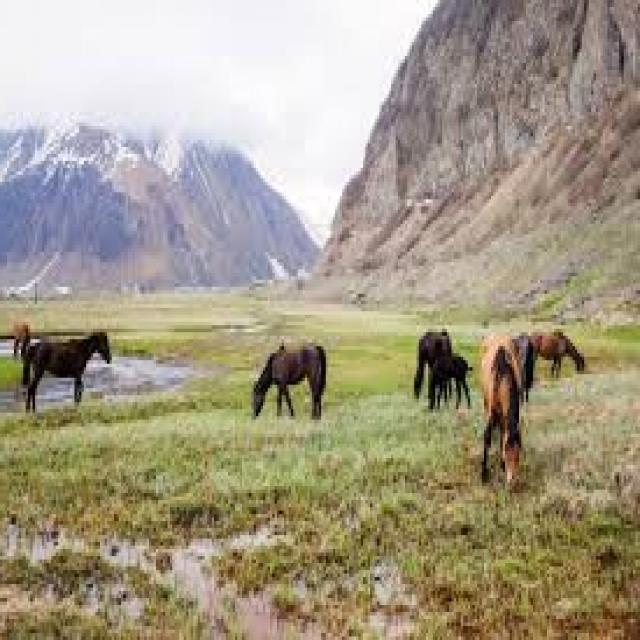horse: (20, 324, 113, 428), (476, 344, 529, 507), (249, 334, 332, 434), (408, 324, 452, 410), (541, 322, 588, 392)
